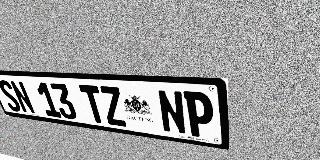1: (34, 82, 62, 118)
3: (49, 83, 78, 120)
N: (156, 89, 187, 135), (9, 80, 36, 114)
P: (183, 91, 214, 139)
S: (0, 80, 23, 112)
T: (79, 85, 108, 124)
Z: (98, 86, 128, 127)
